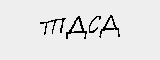Д: (98, 12, 120, 37), (65, 12, 86, 36)
П: (49, 16, 67, 36)
С: (86, 11, 102, 32)
Т: (37, 19, 53, 34)
